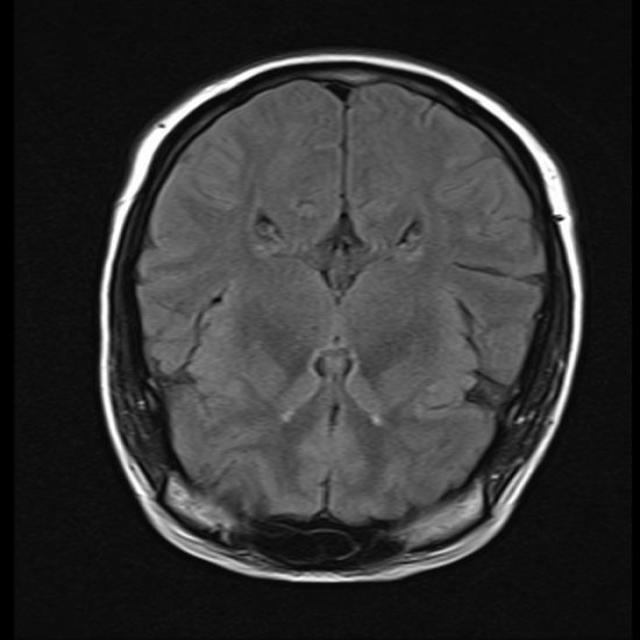No_Tumor: (99, 51, 583, 581)
